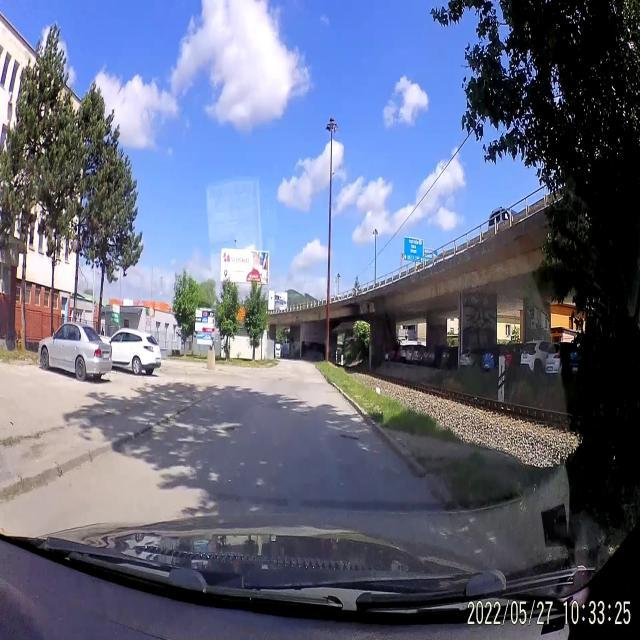Pothole: (218, 424, 236, 436), (340, 434, 360, 444)
